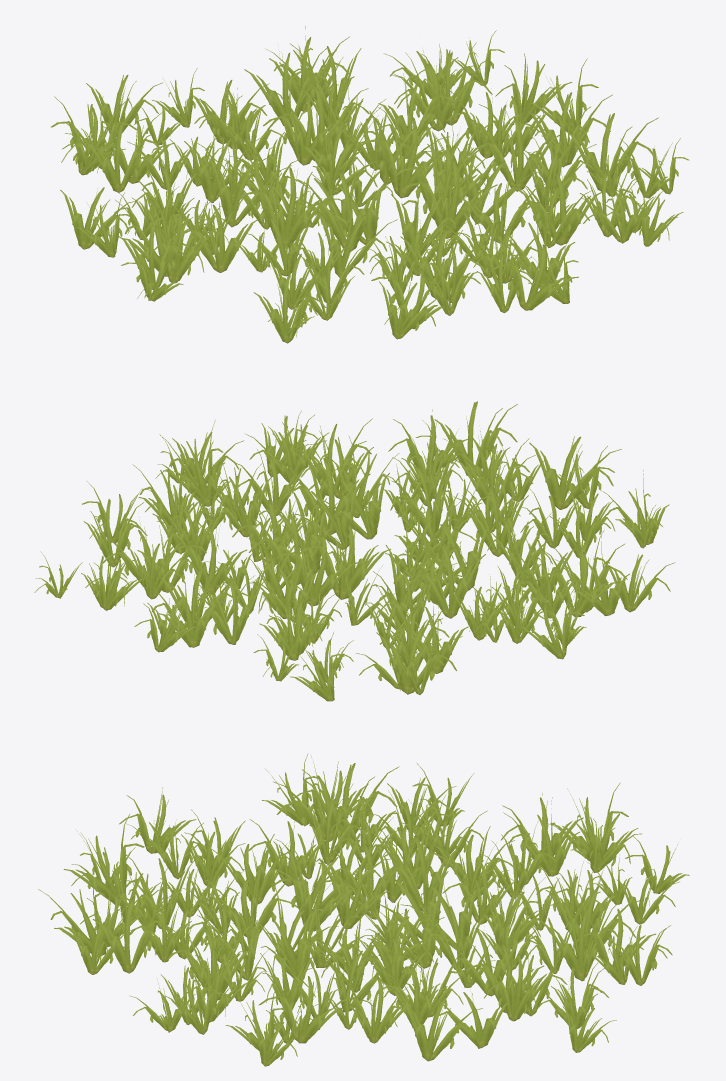
File: grass 02.obj
3 views of the same model, one above another, from view 1: azimuth 30°, elevation 25°; view 2: azimuth 150°, elevation 25°; view 3: azimuth 270°, elevation 25° (orthographic). The views are drawn at different scales.
Visible parts, largest first — view 1: tree; view 2: tree; view 3: tree.
Part boxes in pixels (bbox=[...]): tree: bbox=[51, 26, 689, 343]; tree: bbox=[34, 401, 675, 701]; tree: bbox=[38, 753, 689, 1066].
Size of the model in its own units: 325 by 50.97 by 330.
